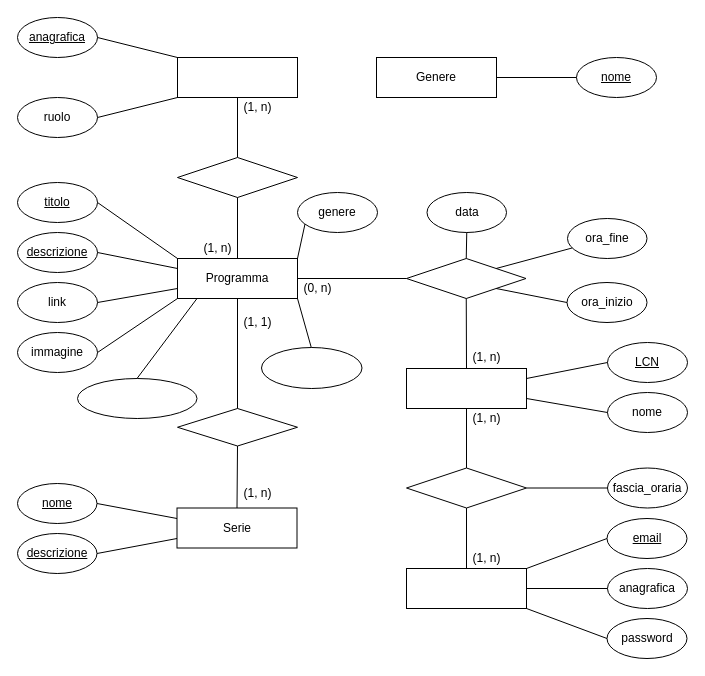
Image size: 705x676. Some labels were removed from this diagram. The centre of each missing label's shape, as x and y in pixels:
"Canali" belongs at pixel 466 388.
"Cast" belongs at pixel 237 77.
"compone" belongs at pixel 237 427.
"numero_episodio" belongs at pixel 311 367.
"numero_stagione" belongs at pixel 136 398.
"partecipano" belongs at pixel 237 177.
"preferisce" belongs at pixel 466 487.
"tramette" belongs at pixel 466 278.
"Utente" belongs at pixel 466 588.
